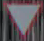Give way: (1, 1, 40, 39)
